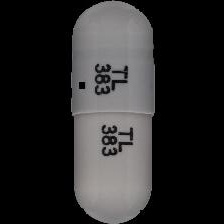53808-0307: (0, 0, 224, 224)
